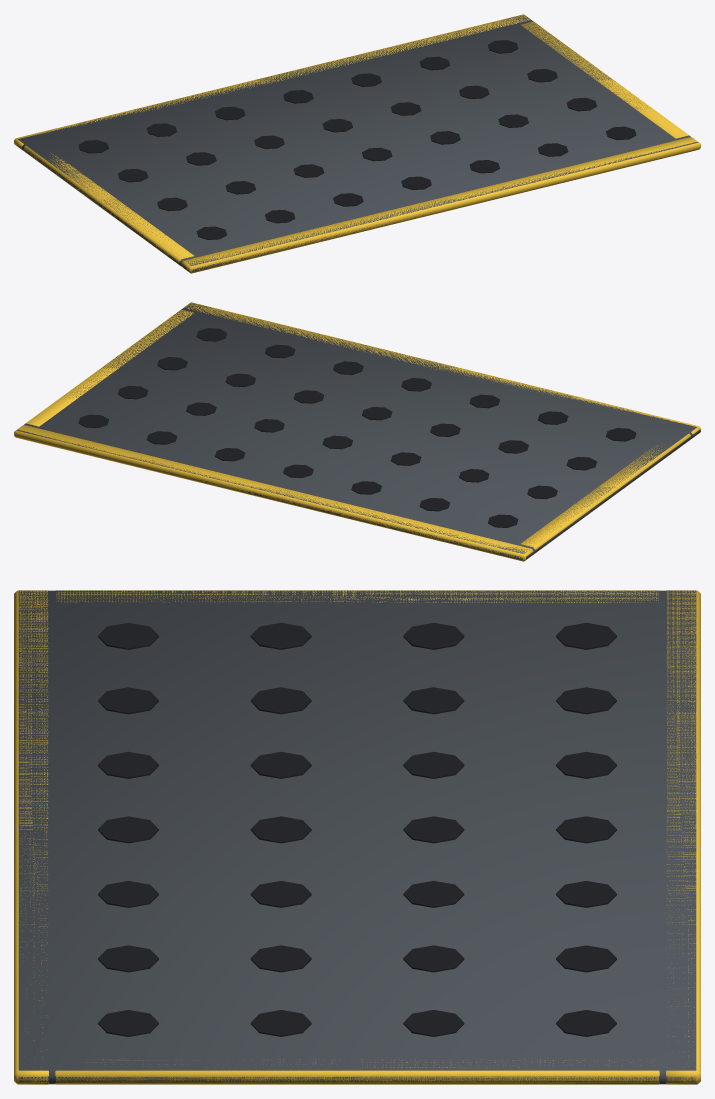
Rendered from SM_Mat_AntiFatigue_01.glb.
The picture shows the model from 3 angles, top to bottom: view 1: azimuth 30°, elevation 25°; view 2: azimuth 150°, elevation 25°; view 3: azimuth 270°, elevation 25°; orthographic projection. The views are drawn at different scales.
Parts seen in each view (by area): view 1: SM_Mat_AntiFatigue_01; view 2: SM_Mat_AntiFatigue_01; view 3: SM_Mat_AntiFatigue_01.
Boxes of the visible parts, x1,y1,x2,y2 form: SM_Mat_AntiFatigue_01: [14, 14, 700, 273]; SM_Mat_AntiFatigue_01: [14, 302, 700, 561]; SM_Mat_AntiFatigue_01: [14, 590, 700, 1084].
Bounding box in the file's own units: 1.5 × 0.022 × 0.9.
1 material, 1 textured.
